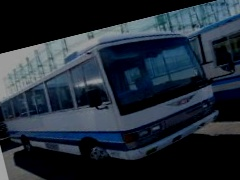bus: (0, 15, 227, 180)
